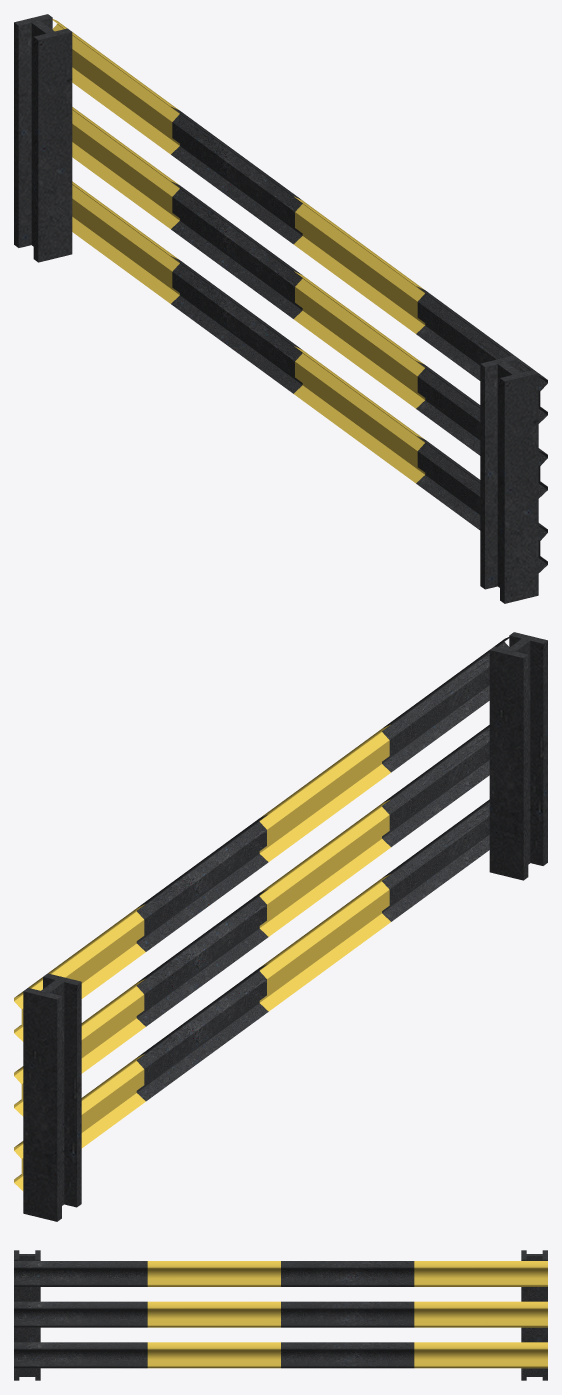
Rendered from Fence_3.fbx.
3 renders of one model, top to bottom at view 1: azimuth 30°, elevation 25°; view 2: azimuth 150°, elevation 25°; view 3: azimuth 270°, elevation 25°, orthographic. The views are drawn at different scales.
Parts seen in each view (by area): view 1: Fence_3; view 2: Fence_3; view 3: Fence_3.
Boxes of the visible parts, x1=… form: Fence_3: x1=14, y1=14, x2=547, y2=603; Fence_3: x1=14, y1=632, x2=547, y2=1221; Fence_3: x1=14, y1=1250, x2=547, y2=1380.
Size of the model in its own units: 0.3053 by 1.5 by 6.
Materials: 1 (1 with a texture image).
